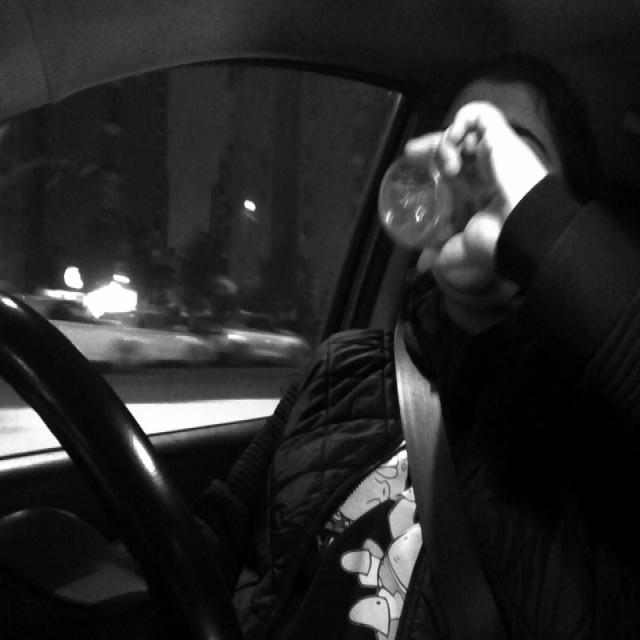drinking: (376, 143, 498, 271)
